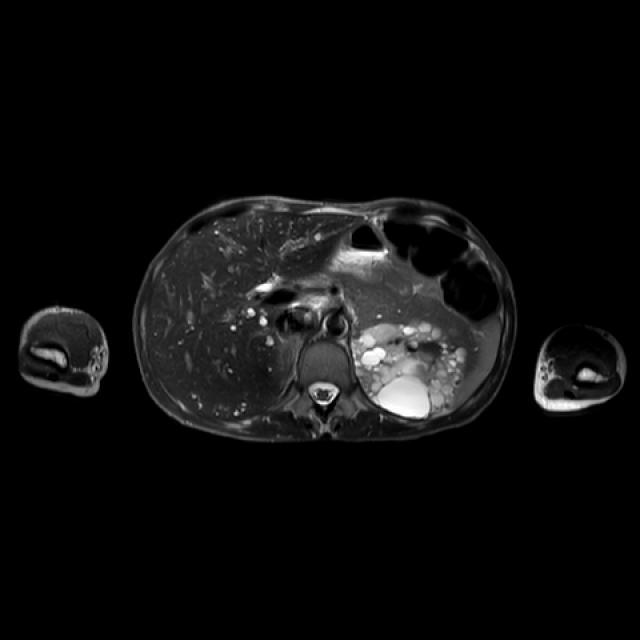sol: (355, 320, 466, 418)
